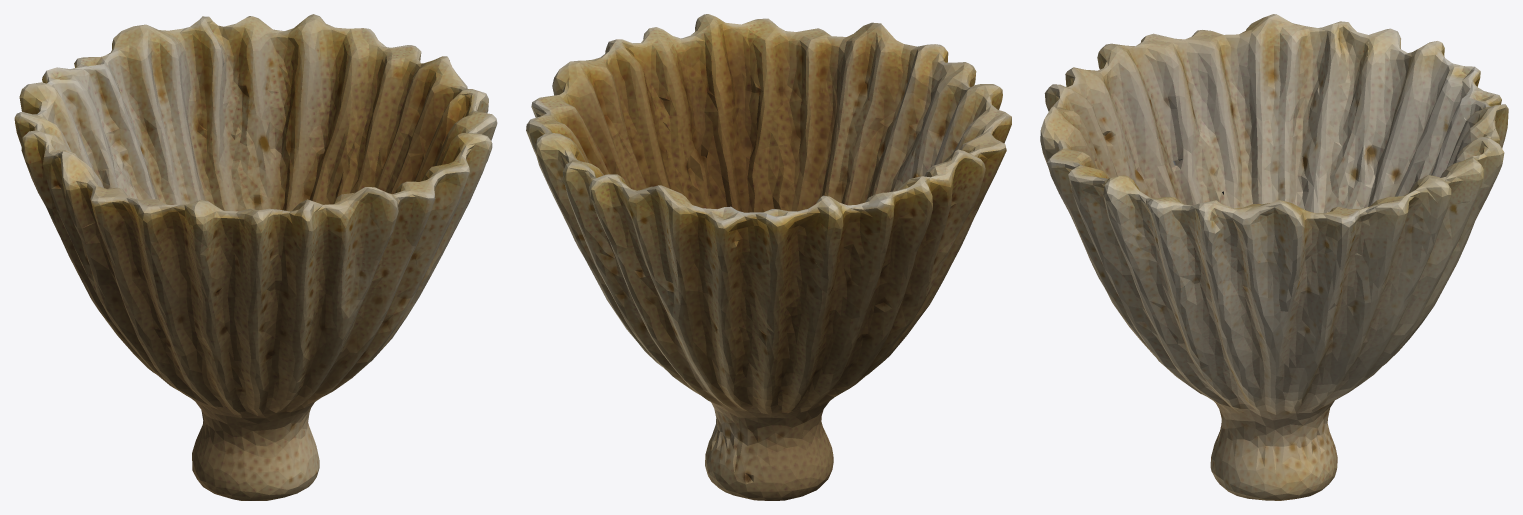
3 views of the same model, side by side, from view 1: azimuth 30°, elevation 25°; view 2: azimuth 150°, elevation 25°; view 3: azimuth 270°, elevation 25° (orthographic).
Parts seen in each view (by area): view 1: world; view 2: world; view 3: world.
Part boxes in pixels (x1=…): world: x1=14, y1=14, x2=497, y2=500; world: x1=526, y1=14, x2=1011, y2=500; world: x1=1040, y1=14, x2=1508, y2=500.
Size of the model in its own units: 0.9991 by 0.8782 by 1.
Materials: 1 (1 with a texture image).
